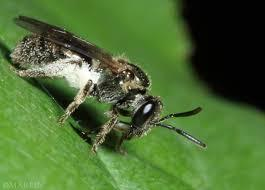Lasioglossum: (9, 13, 209, 157)
